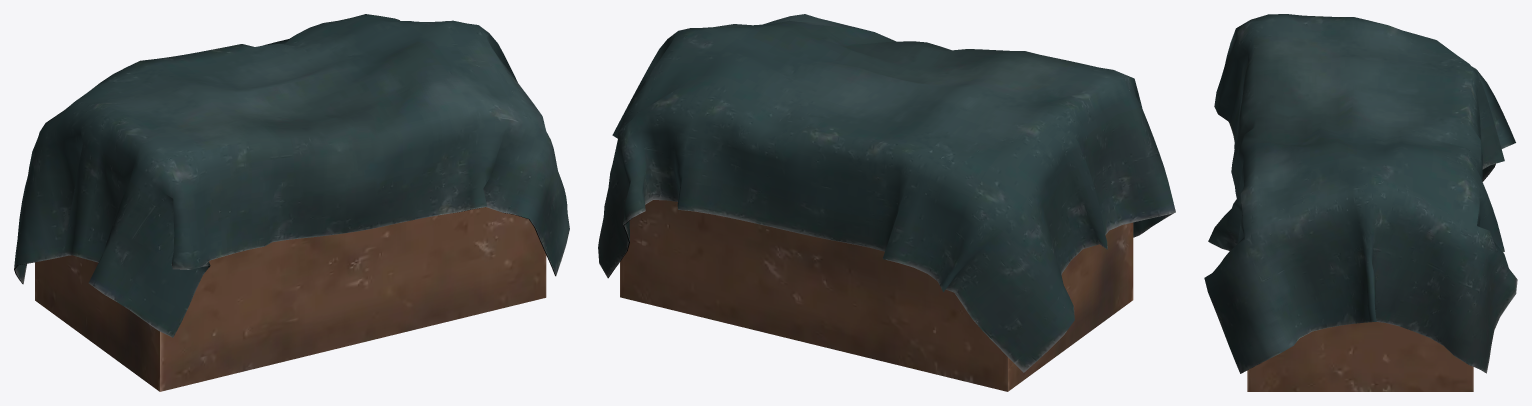
The model's file is covered_box.glb.
The picture shows the model from 3 angles, left to right: view 1: azimuth 30°, elevation 25°; view 2: azimuth 150°, elevation 25°; view 3: azimuth 270°, elevation 25°; orthographic projection. The views are drawn at different scales.
Parts seen in each view (by area): view 1: Covered_Box; view 2: Covered_Box; view 3: Covered_Box.
Boxes of the visible parts, x1=… form: Covered_Box: x1=14, y1=14, x2=569, y2=391; Covered_Box: x1=598, y1=14, x2=1175, y2=391; Covered_Box: x1=1204, y1=14, x2=1517, y2=391.
Size of the model in its own units: 3.23 by 1.42 by 1.92.
Materials: 1 (1 with a texture image).
